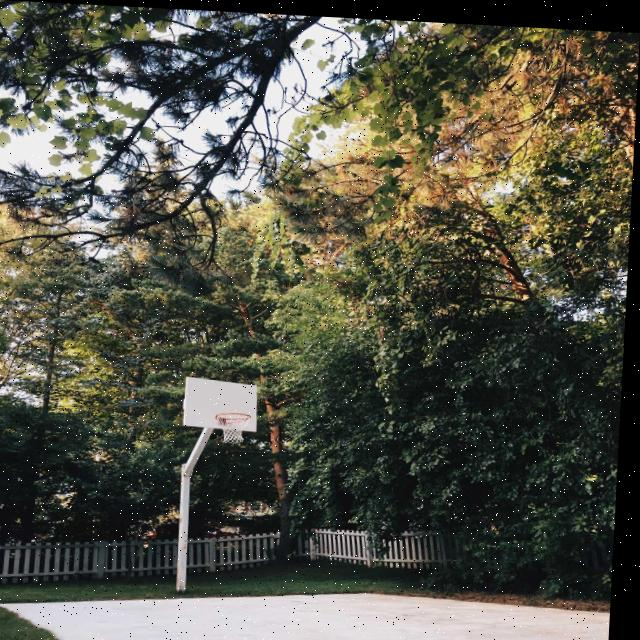hoop: (214, 412, 252, 445)
